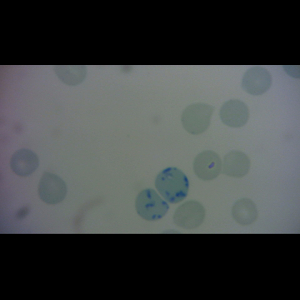aggregate reticulocyte: (154, 166, 190, 204), (134, 187, 170, 222)
erythrocyte: (240, 65, 274, 97), (37, 171, 68, 205), (171, 201, 207, 230), (218, 99, 251, 129), (192, 150, 223, 181), (9, 147, 40, 177), (222, 149, 251, 178), (231, 198, 259, 225)
punctate reticulocyte: (180, 102, 217, 136)
